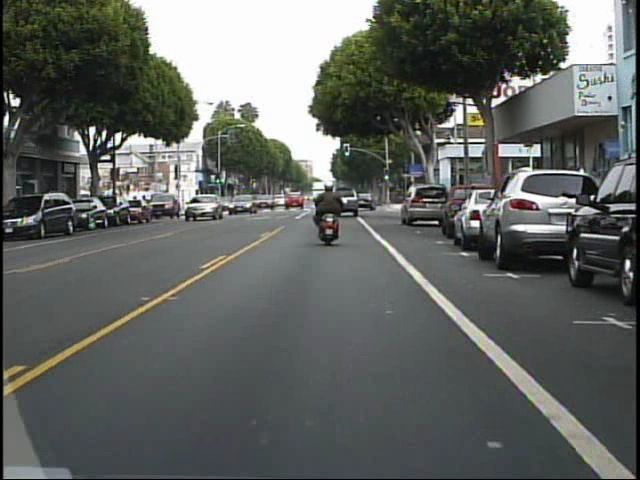person: (312, 177, 352, 246)
